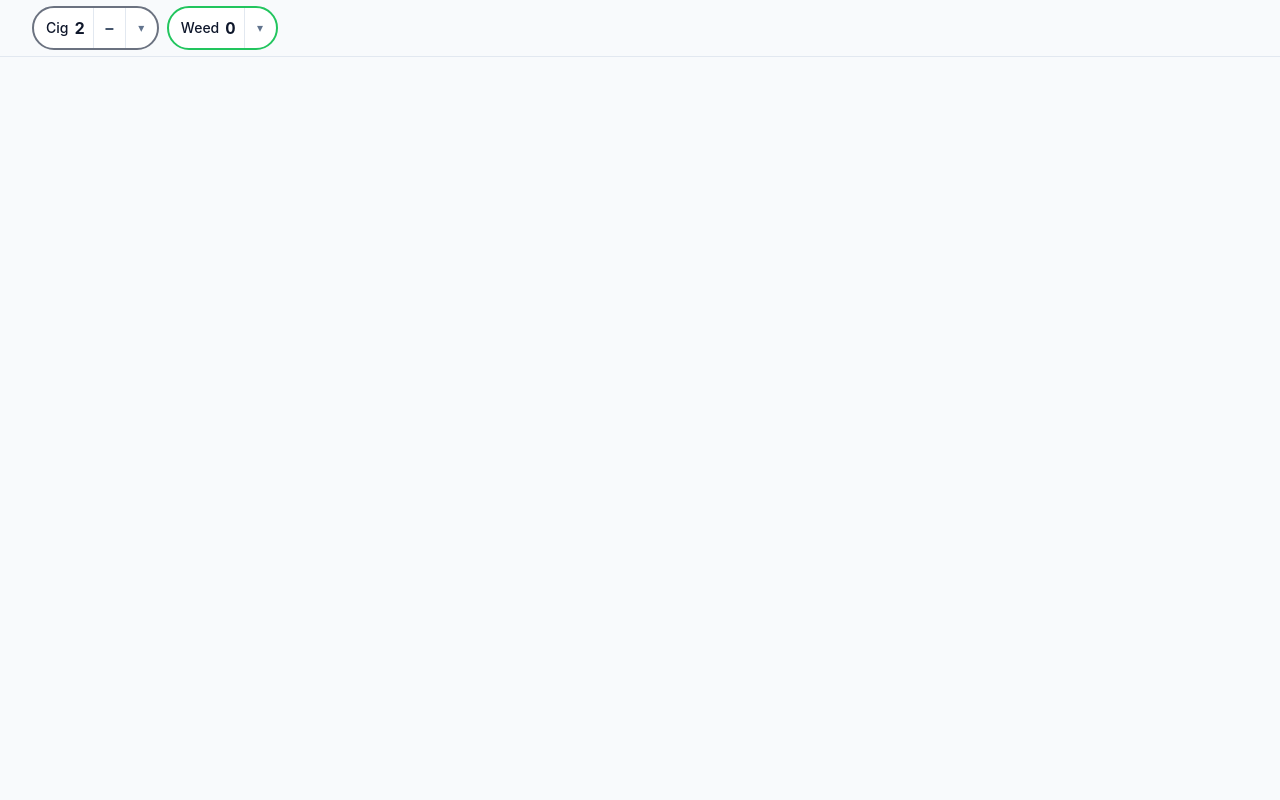
Test: counter pills › tell how long ago the last tap was in the sheet
The image size is (1280, 800).
Click the button named "More for Cigarette" at {"x": 141, "y": 28}, box left=125, top=8, right=157, bottom=48
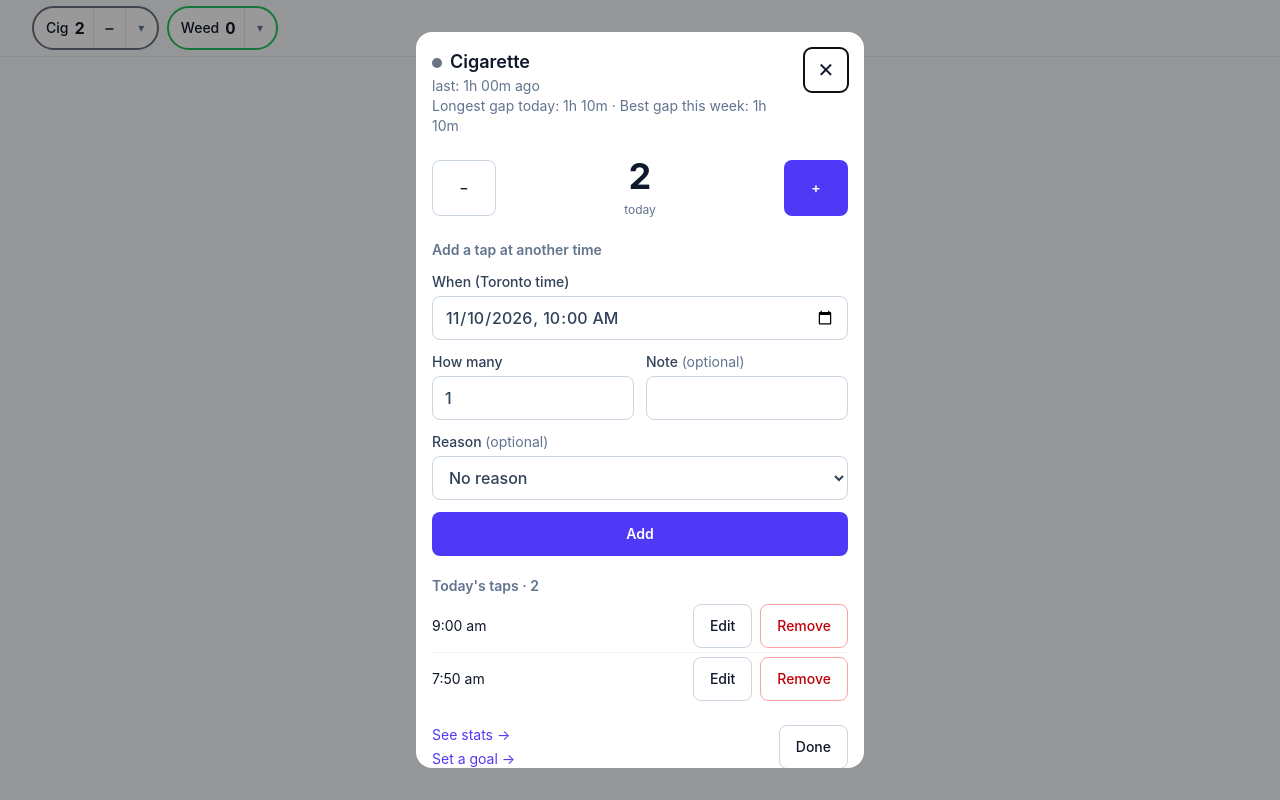
Result: the text "last: 1h 00m ago" is shown at left=432, top=77, right=540, bottom=94
